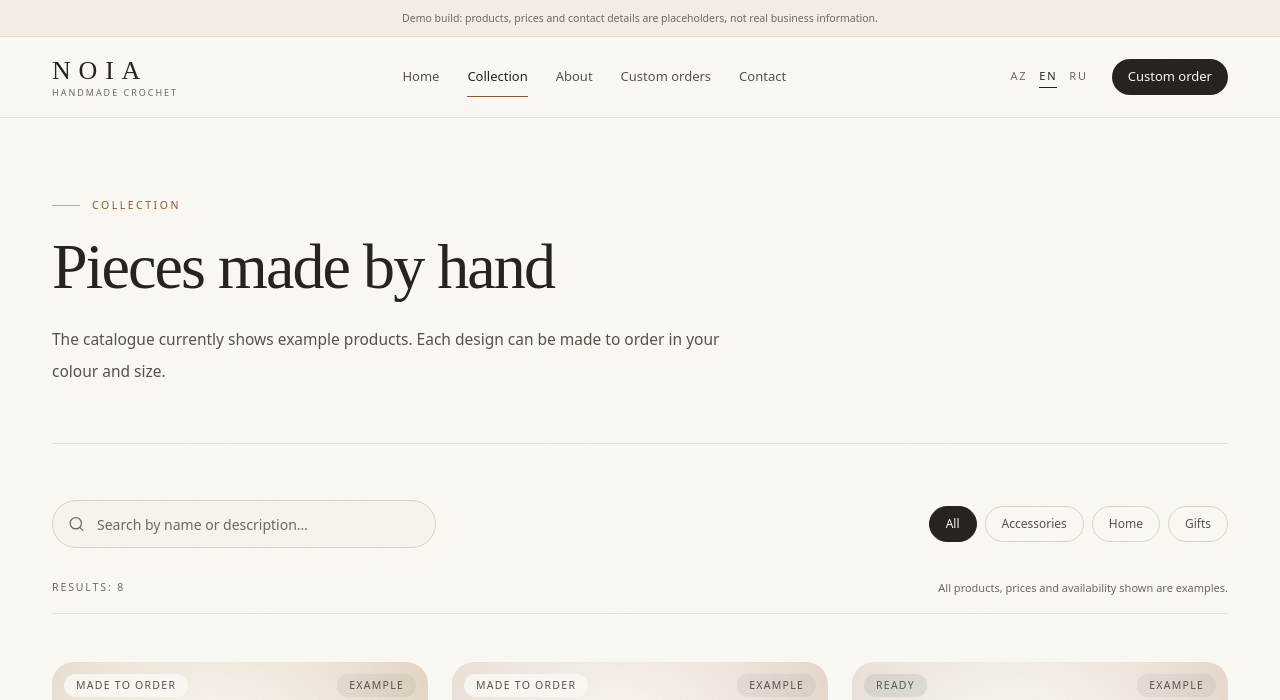
Test: shop › shows an empty state and can reset filters
Expected: the heading "Pieces made by hand" is shown, [52,231,554,302]
Step 1. Type "zzzzz" into the search field named "Search products" → (244, 524), box [52,500,436,548]
(page scrolled)
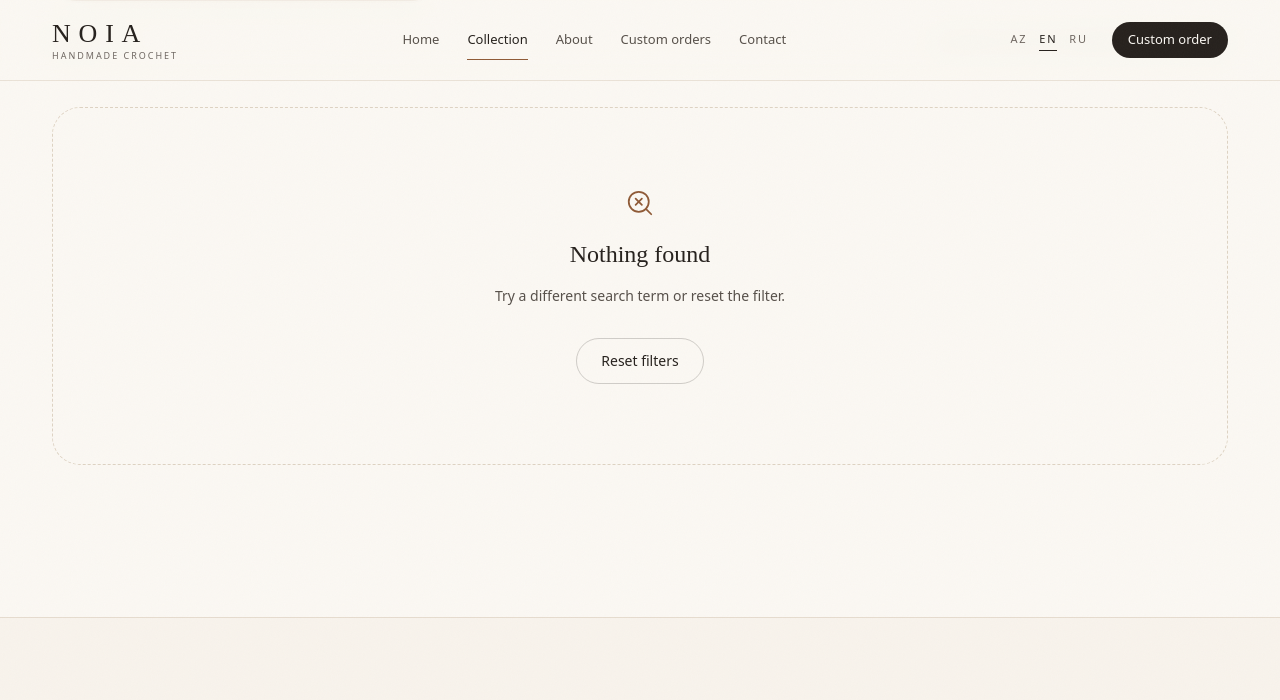
Expected: the heading "Nothing found" is shown, [570,240,710,266]
Step 2. Click the button "Reset filters" → click(640, 360), box [576,338,704,384]
(page scrolled)
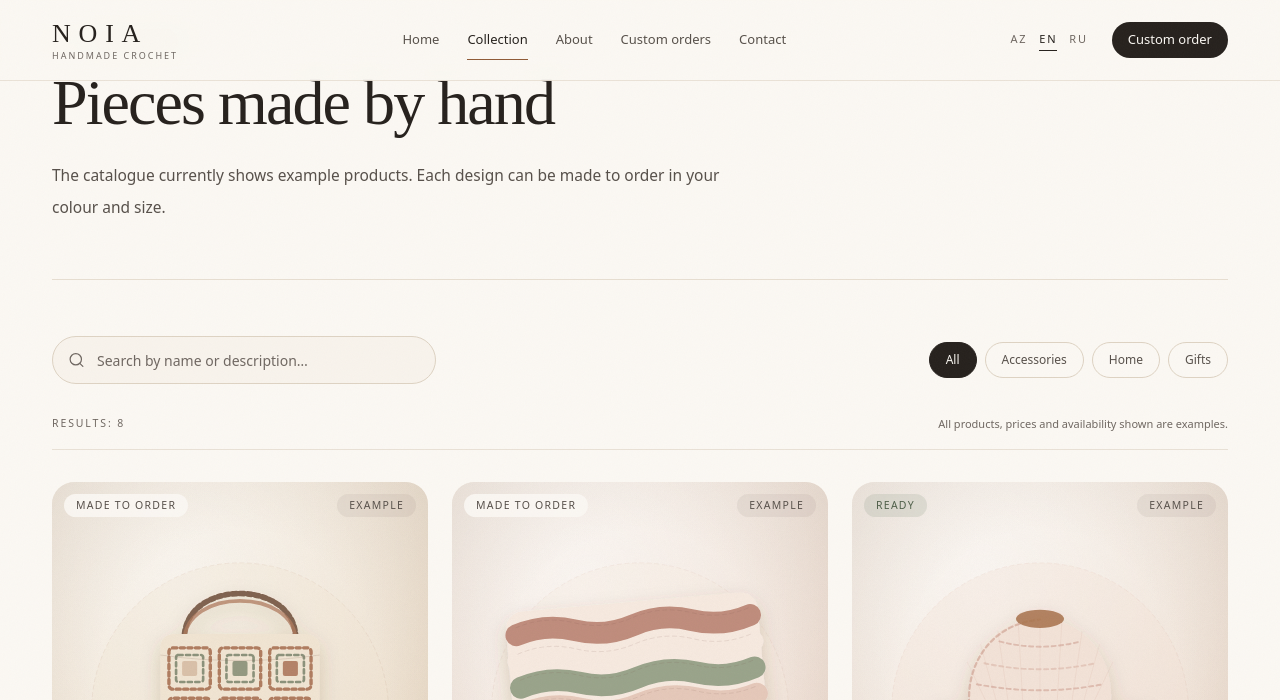
Expected: the text "Results: 8" is shown, [52,416,125,432]
Expected: the search field named "Search products" is empty, [52,336,436,384]
